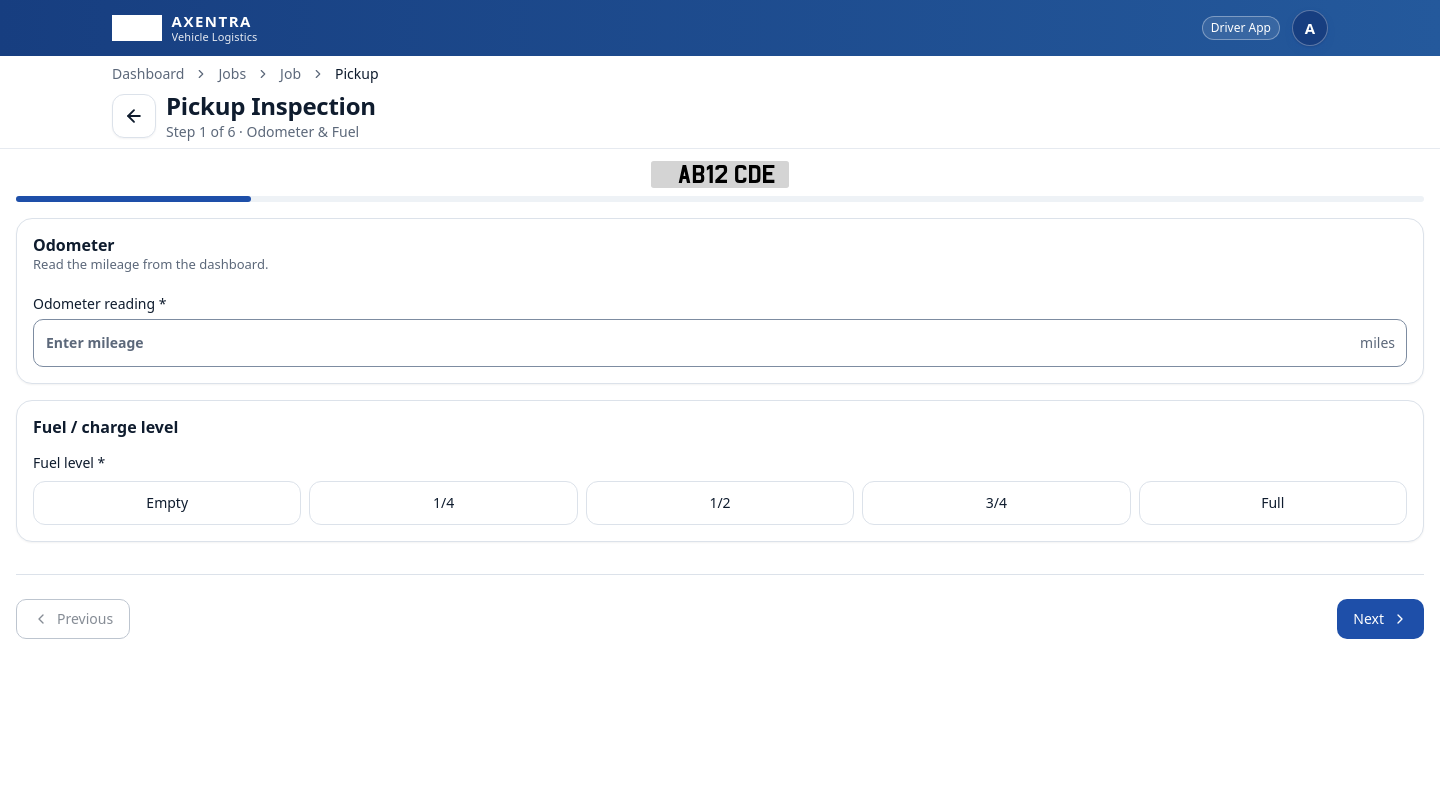
Test: Odometer & fuel step › fuel is a radiogroup; picking writes the value and Next moves on
expect the text "Step 1 of 6 · Odometer & Fuel" is shown: met, box x1=166 y1=122 x2=376 y2=142
Type "54321" into the number field labelled "Odometer reading *" at coordinates (720, 343), box x1=33 y1=319 x2=1407 y2=367
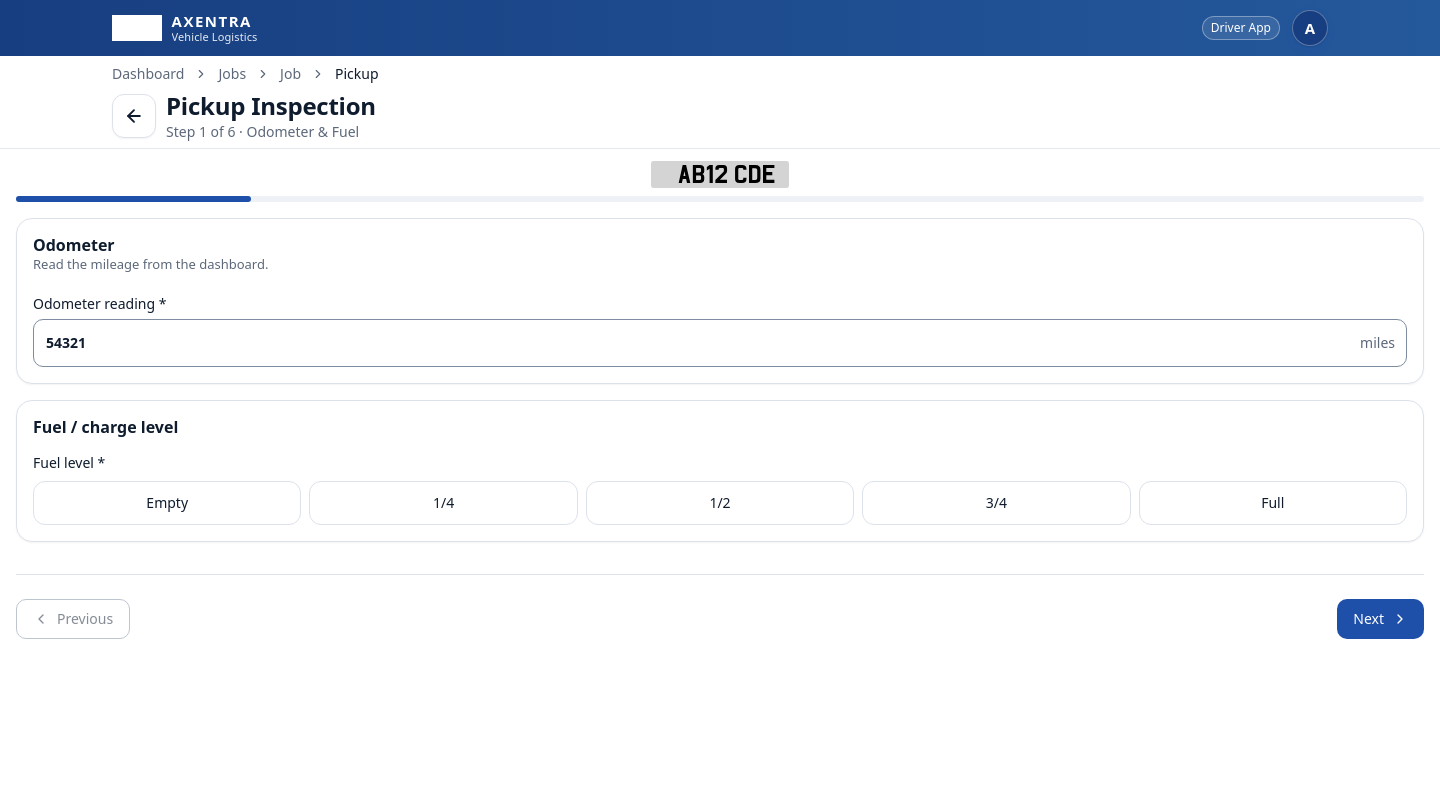
Click the radio button labelled "3/4" at coordinates (996, 503), box x1=862 y1=481 x2=1131 y2=525
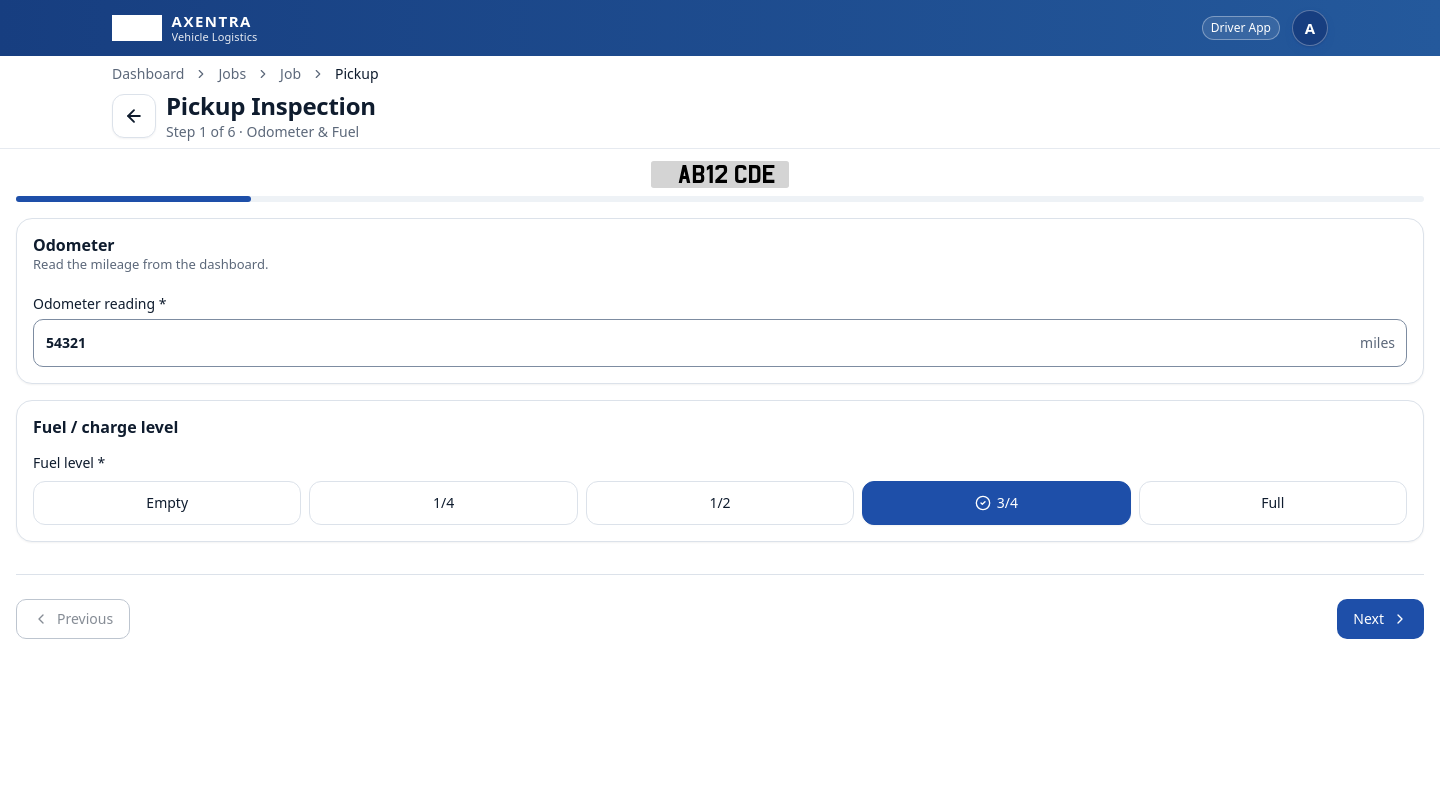
Click the radio button labelled "Full" at coordinates (1273, 503), box x1=1139 y1=481 x2=1407 y2=525
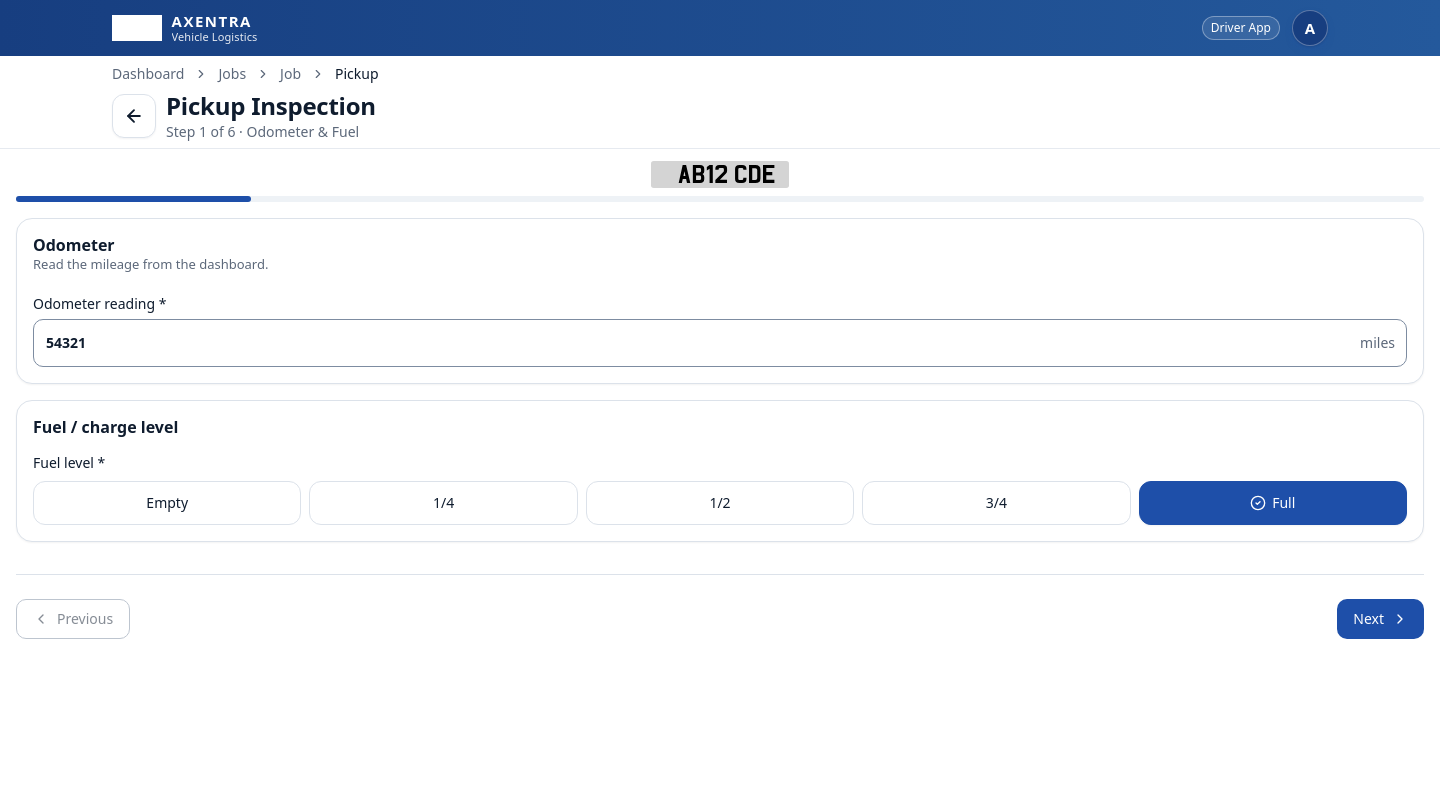
Click the button "Next" at coordinates (1381, 619), box x1=1337 y1=599 x2=1424 y2=639
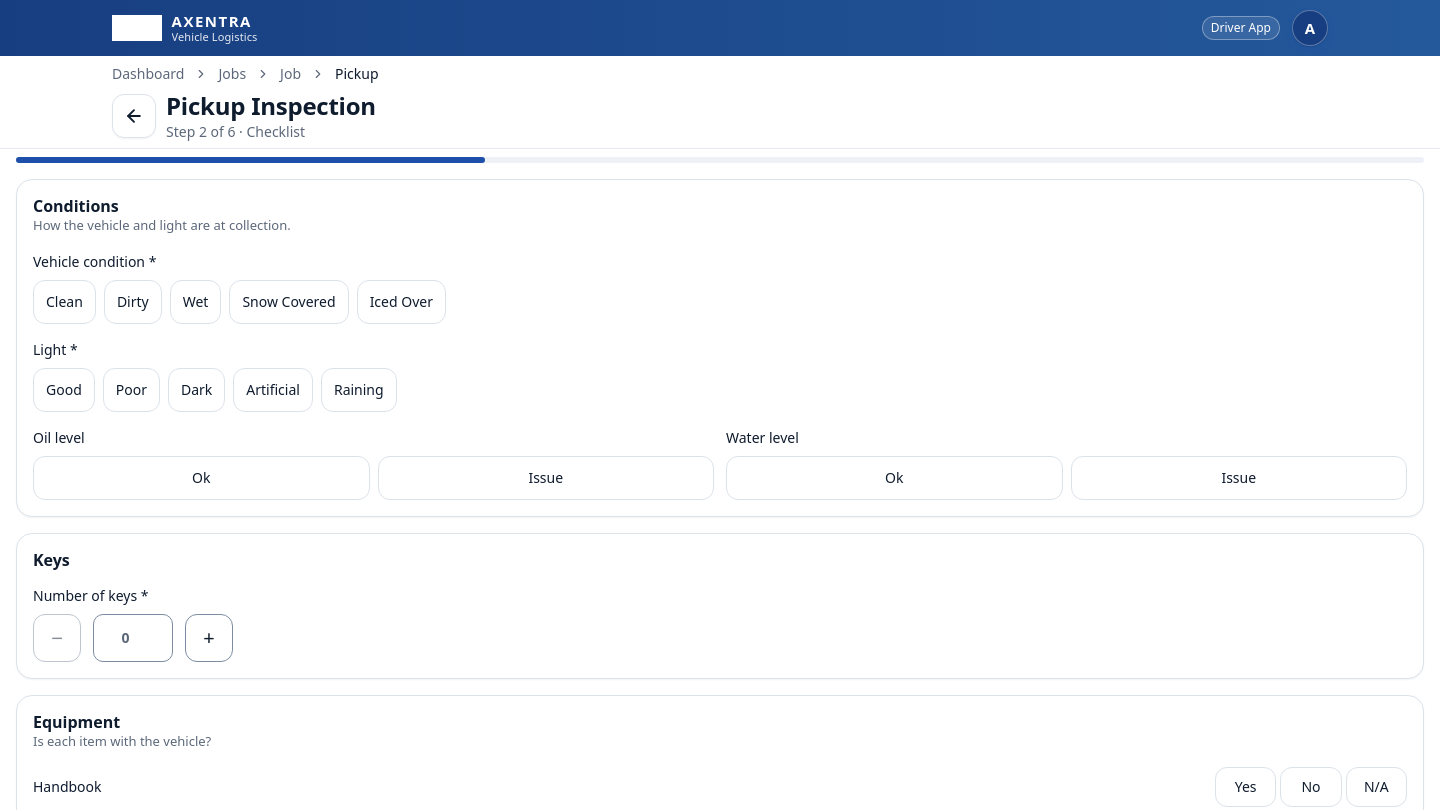
expect the text "Step 2 of 6 · Checklist" is shown: met, box x1=166 y1=122 x2=305 y2=141
